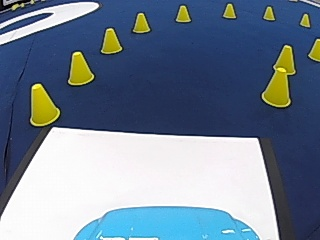cone: (28, 82, 60, 125), (260, 64, 291, 107), (66, 50, 94, 85), (273, 44, 297, 75), (99, 27, 122, 54), (132, 11, 150, 33), (175, 4, 191, 22), (307, 37, 319, 61), (222, 2, 236, 19), (262, 5, 275, 20), (299, 12, 310, 27)
